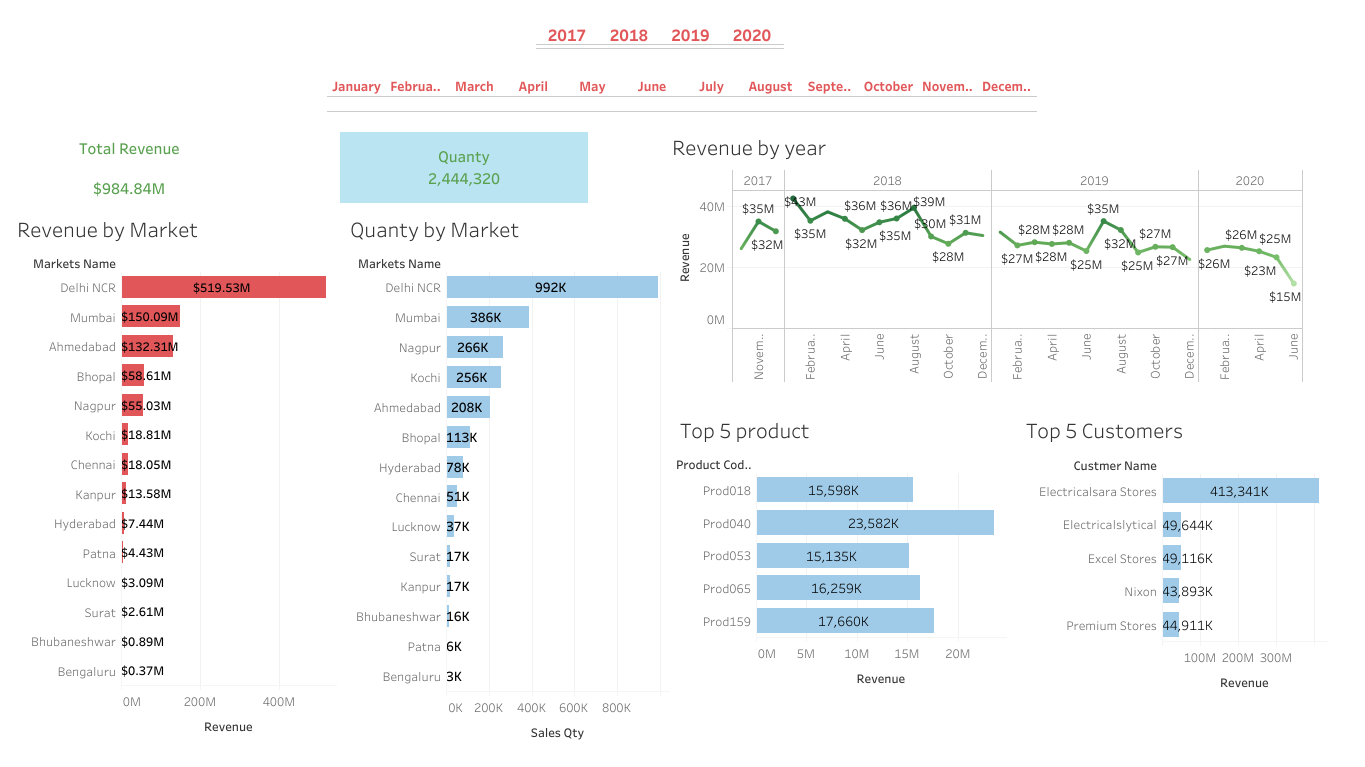

This screenshot's page, from the dashboard's own definition file:
{"tool":"tableau","page":{"name":"Dashboard 1","canvas":[1366,768],"ordinal":0},"visuals":[{"type":"worksheet","title":"Year","mark":"Automatic","cols":["cy_date"],"box":[536,9,248,40]},{"type":"worksheet","title":"Month","mark":"Automatic","cols":["cy_date"],"box":[327,61,710,51]},{"type":"worksheet","title":"Quanty","mark":"Automatic","box":[340,117,248,86]},{"type":"worksheet","title":"Revenue","mark":"Automatic","box":[6,121,248,79]},{"type":"worksheet","title":"Revenue by year","mark":"Automatic","rows":["Calculation_1846405503983411201"],"cols":["cy_date","cy_date"],"box":[668,127,635,256]},{"type":"worksheet","title":"Revenue by Market","mark":"Automatic","rows":["markets_name"],"cols":["Calculation_1846405503983411201"],"box":[13,209,323,533]},{"type":"worksheet","title":"Quanty by Market","mark":"Automatic","rows":["markets_name"],"cols":["sales_qty"],"box":[346,209,323,539]},{"type":"worksheet","title":"Top 5 product","mark":"Automatic","rows":["product_code (products.csv)"],"cols":["Calculation_1846405503983411201"],"box":[676,410,330,284]},{"type":"worksheet","title":"Top 5 Customers","mark":"Automatic","rows":["custmer_name"],"cols":["Calculation_1846405503983411201"],"box":[1022,410,305,288]}]}

Visuals, with their boxes in screenshot pixels (x1, y1, x2, y2), scaled from the page's 1366x768 canvas onto the 1365x767 screenshot:
"Year" worksheet: Rect(536, 9, 783, 49)
"Month" worksheet: Rect(327, 61, 1036, 112)
"Quanty" worksheet: Rect(340, 117, 588, 203)
"Revenue" worksheet: Rect(6, 121, 254, 200)
"Revenue by year" worksheet: Rect(668, 127, 1302, 383)
"Revenue by Market" worksheet: Rect(13, 209, 336, 741)
"Quanty by Market" worksheet: Rect(346, 209, 669, 747)
"Top 5 product" worksheet: Rect(676, 409, 1005, 693)
"Top 5 Customers" worksheet: Rect(1021, 409, 1326, 697)
